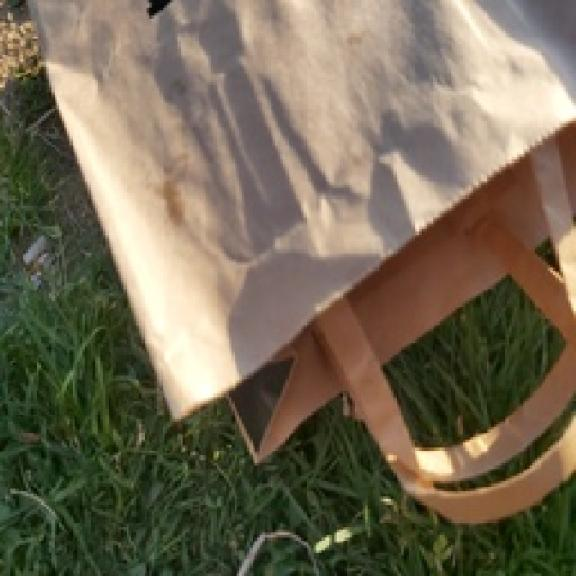Kertas: (31, 0, 573, 519), (378, 270, 566, 450), (530, 231, 566, 285)
